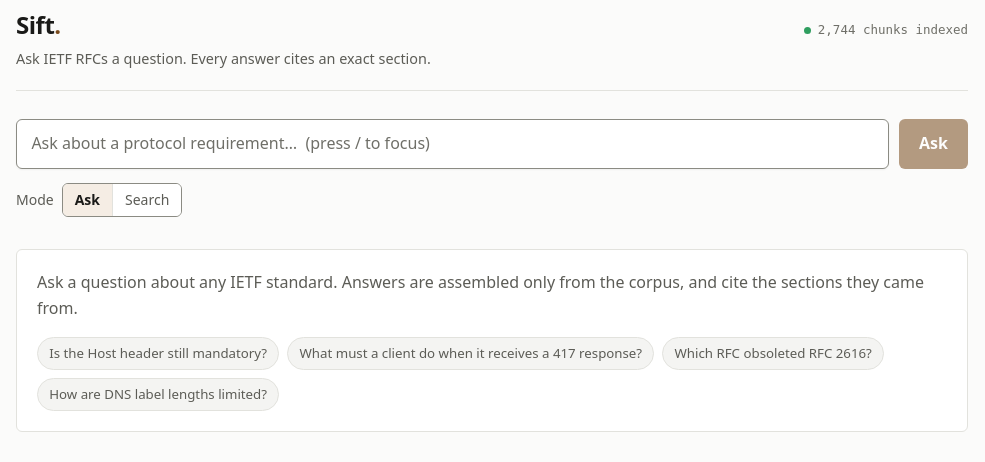
Test: accessibility › labels the retrieval mode group
Check: the text "2,744 chunks indexed" is shown, box [804,20,968,40]
Click the radio button labelled "Search": [147, 200] box [113,184,181,216]
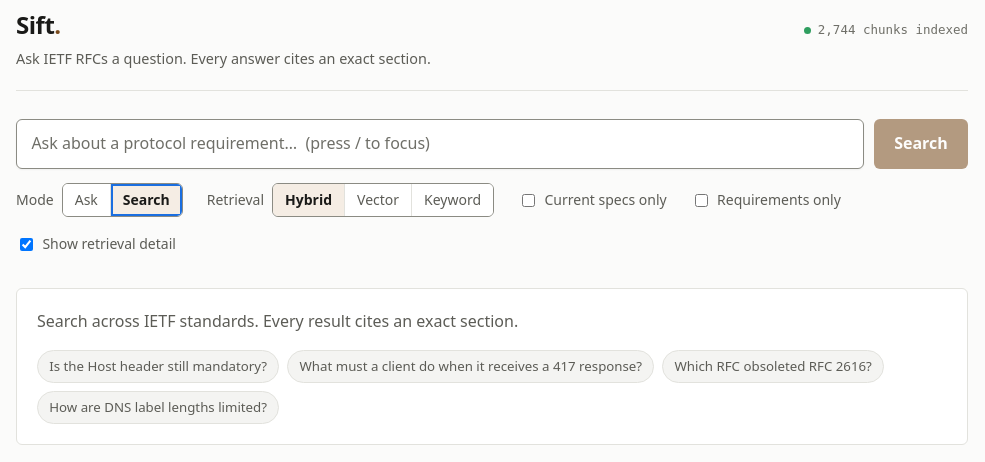
Check: the element "Retrieval Hybrid Vector Keyword" is shown, box [207,183,494,217]
